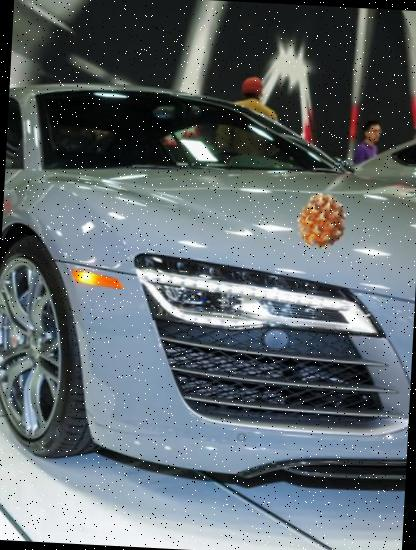Pineapple: (292, 191, 352, 250)
